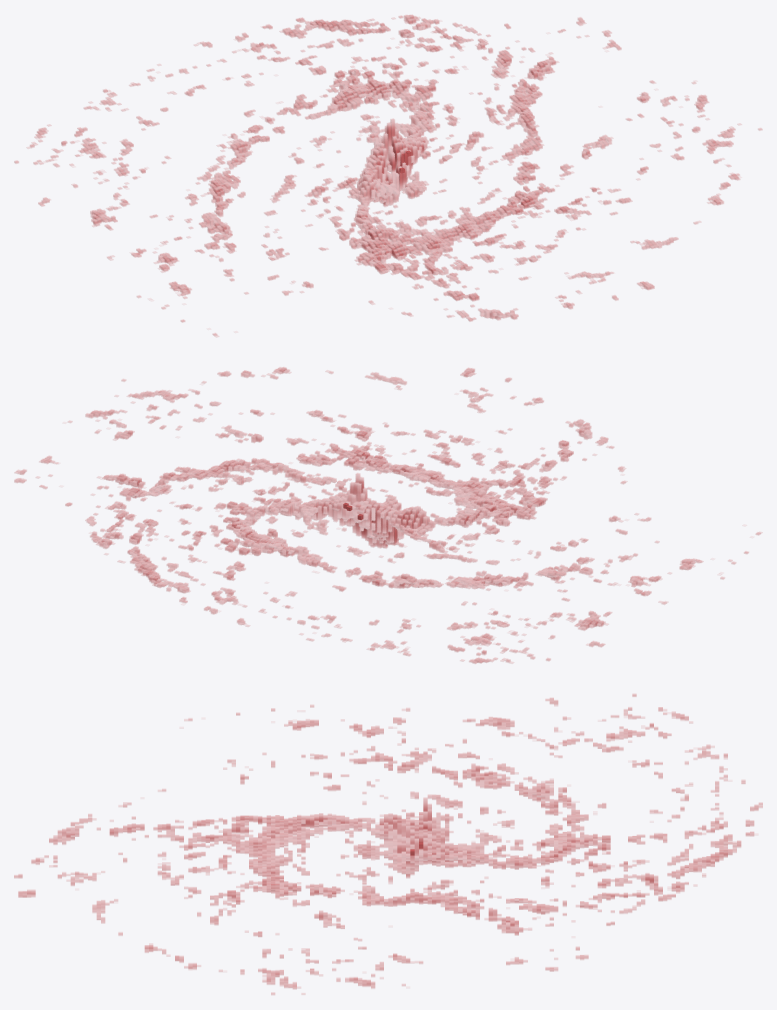
The model's file is m83_voxel.glb.
3 renders of one model, top to bottom at view 1: azimuth 30°, elevation 25°; view 2: azimuth 150°, elevation 25°; view 3: azimuth 270°, elevation 25°, orthographic. The views are drawn at different scales.
Size of the model in its own units: 1.38 by 0.1654 by 1.34.
